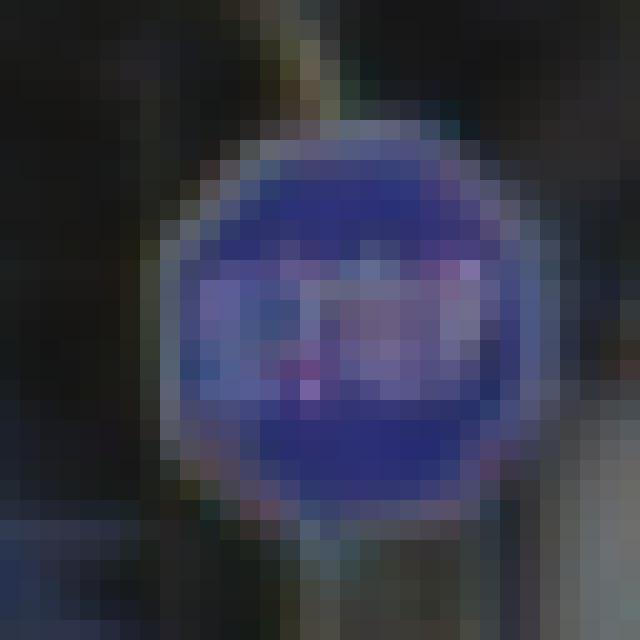STOP: (153, 136, 564, 540)
